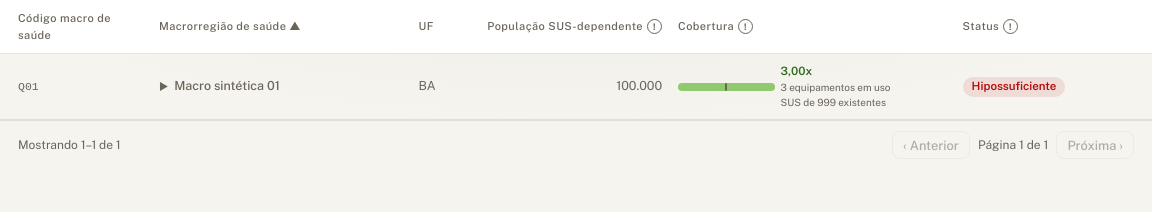
tabela de cobertura com componentes e consultas reais › trata expansão com retorno http sem inventar cobertura
Click the text "Macro sintética 01": (282, 87) x1=151 y1=54 x2=412 y2=120
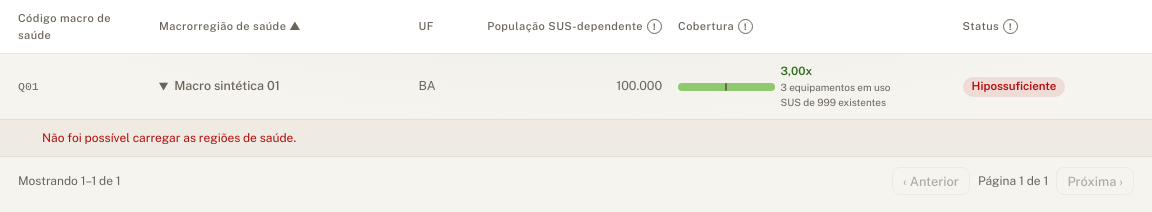
Expected: the text "Não foi possível carregar as regiões de saúde." is shown, x1=42 y1=131 x2=296 y2=145
